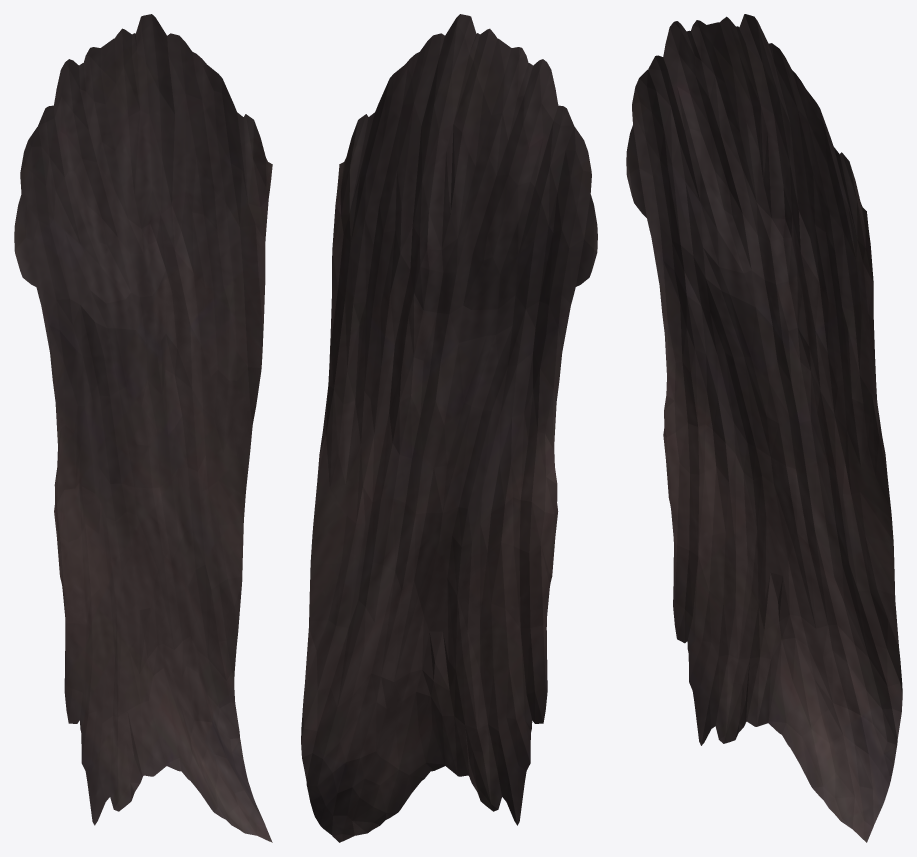
3 views of the same model, side by side, from view 1: azimuth 30°, elevation 25°; view 2: azimuth 150°, elevation 25°; view 3: azimuth 330°, elevation 25° (orthographic). The views are drawn at different scales.
Bounding box in the file's own units: 52.09 × 165 × 13.43.
1 material, 1 textured.
